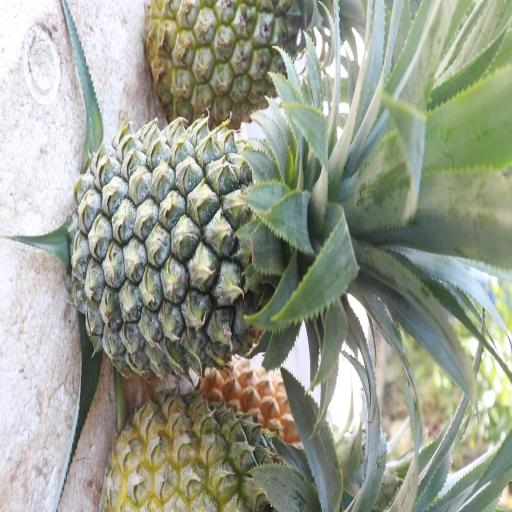------------------------------: (107, 386, 305, 512), (145, 0, 318, 126)
